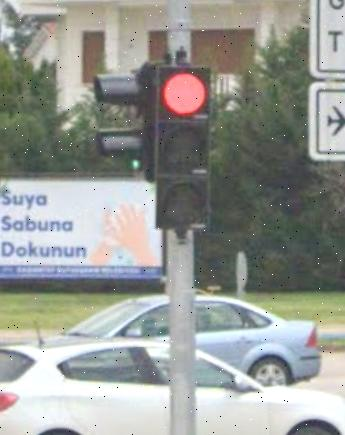redlight: (153, 60, 216, 237)
